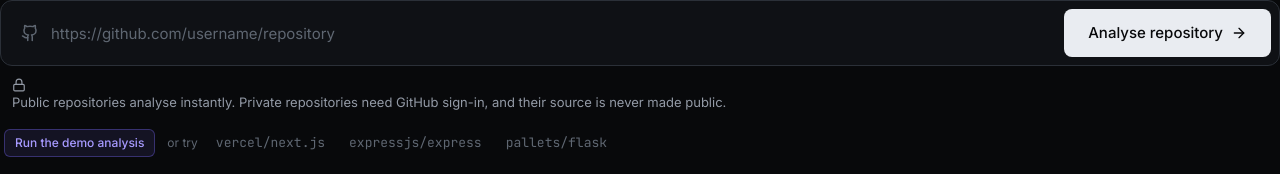
RepoInput › confirms a valid repository as the user types
This screenshot has width=1280, height=174.
In the field named "GitHub repository URL": (548, 33) x1=51 y1=11 x2=1044 y2=55, type "github.com/acme/app"
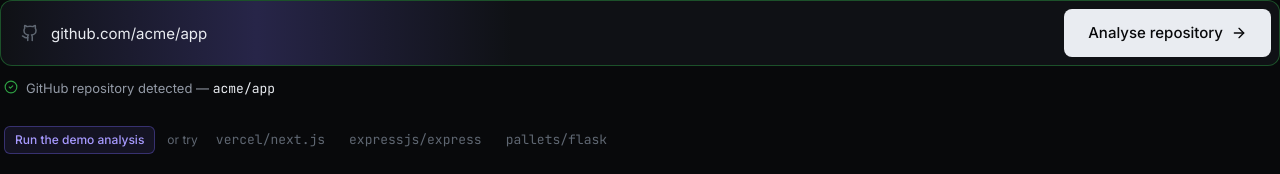
Expected: the text "GitHub repository detected — acme/app" is shown, x1=26 y1=78 x2=275 y2=99
